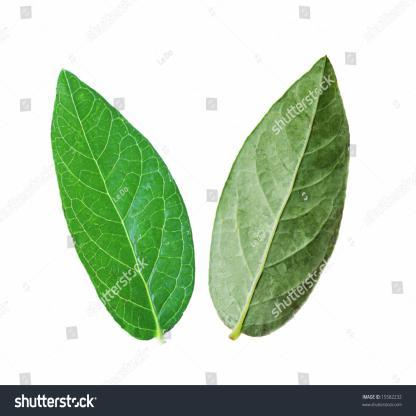Blueberry leaf: (208, 37, 355, 366), (45, 66, 202, 354)
